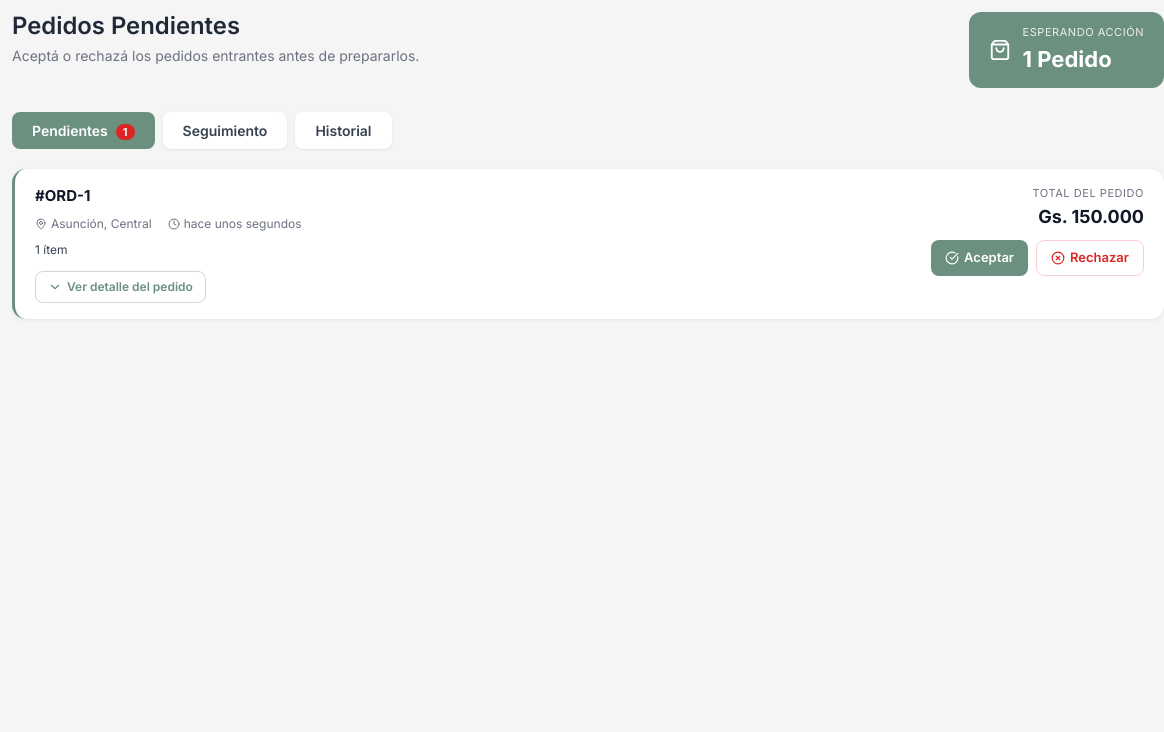
CommerceOrdersPage › muestra detalle de productos en pedidos pendientes al expandir
The width and height of the screenshot is (1164, 732).
Expected: the text "#ORD-1" is shown, left=35, top=186, right=90, bottom=204
Click the button "Ver detalle del pedido": {"x": 120, "y": 287} left=35, top=271, right=206, bottom=303
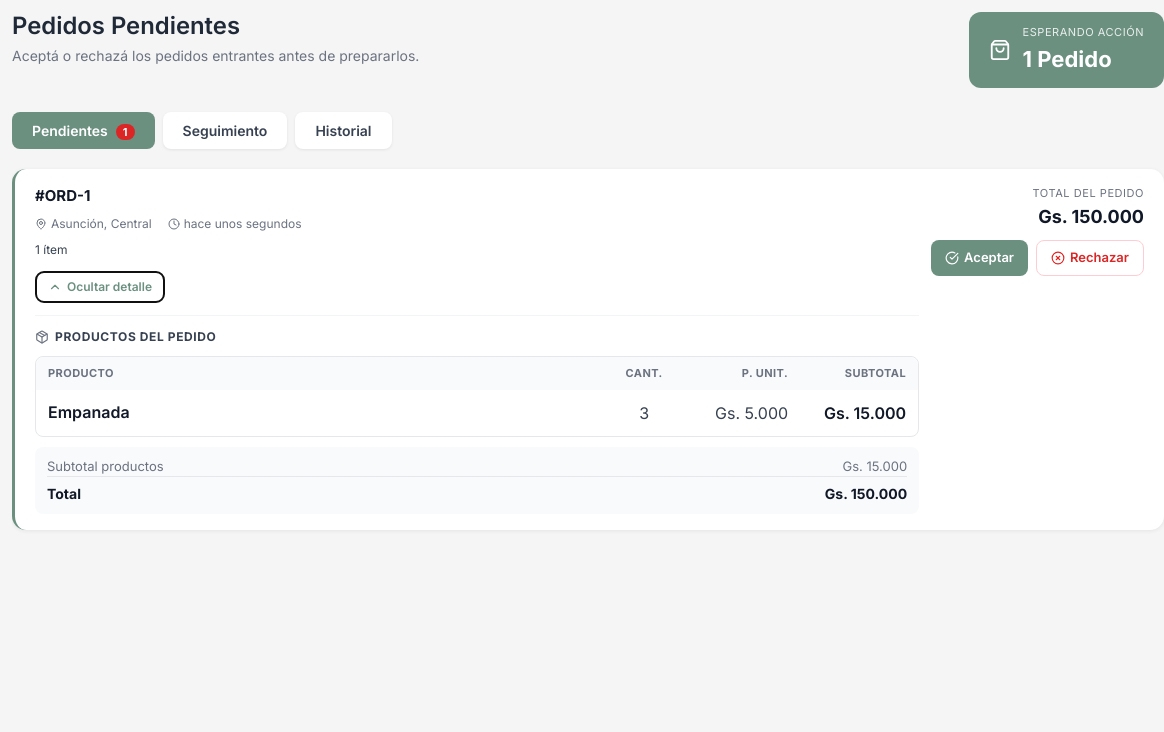
Now the text "Empanada" is shown, box left=48, top=402, right=130, bottom=422
